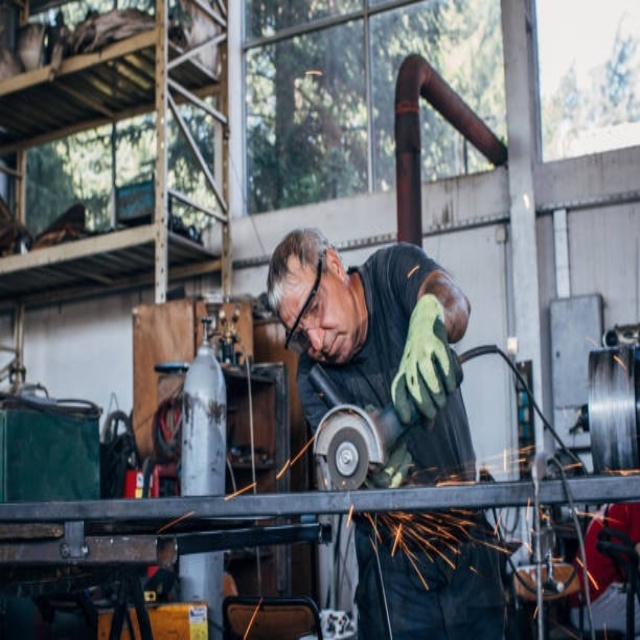Gafas: (283, 250, 323, 351)
Guantes: (390, 296, 461, 425)
Sin_mascara: (321, 325, 351, 362)
